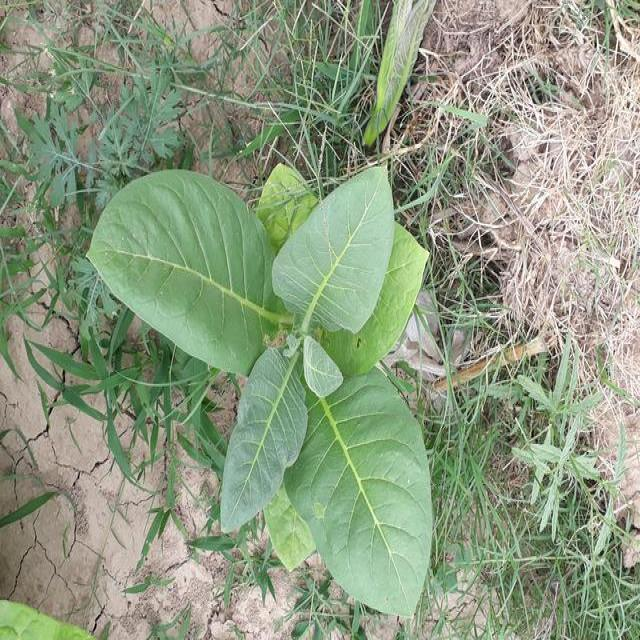crop: (90, 167, 438, 606)
